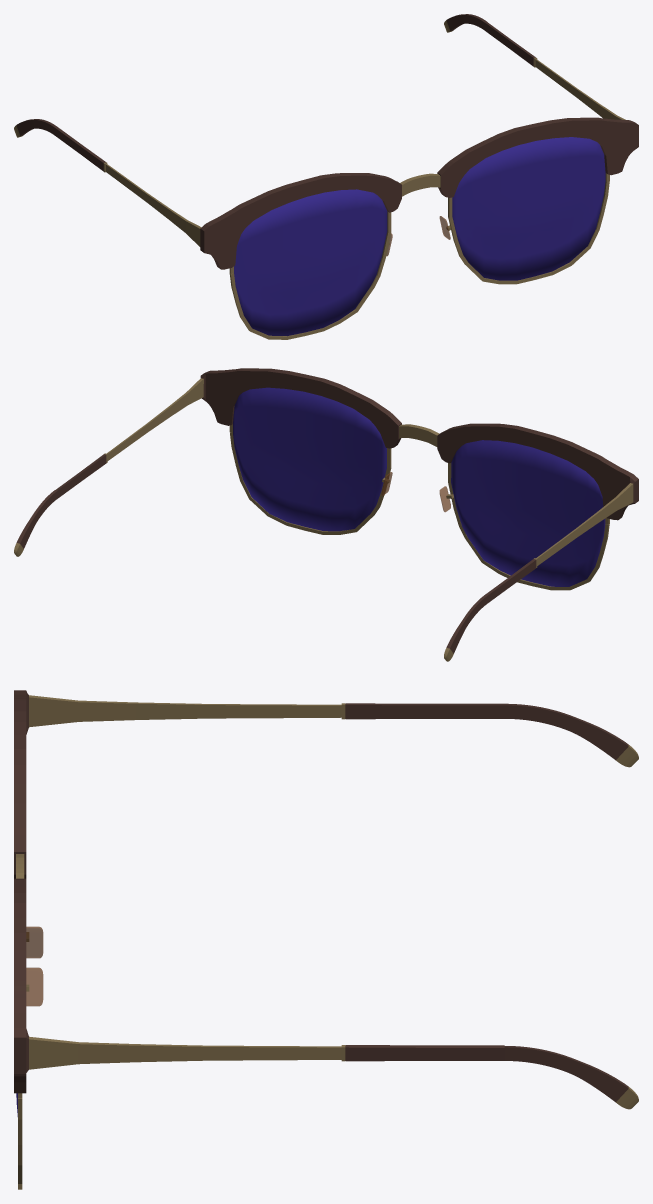
3 renders of one model, top to bottom at view 1: azimuth 30°, elevation 25°; view 2: azimuth 150°, elevation 25°; view 3: azimuth 270°, elevation 25°, orthographic. The views are drawn at different scales.
Parts seen in each view (by area): view 1: Plane.002; view 2: Plane.002; view 3: Plane.002.
Boxes of the visible parts, left/top/right/bottom form: Plane.002: left=14, top=14, right=638, bottom=339; Plane.002: left=14, top=368, right=638, bottom=661; Plane.002: left=14, top=690, right=638, bottom=1189.
Size of the model in its own units: 14.1 by 4.79 by 10.77.
